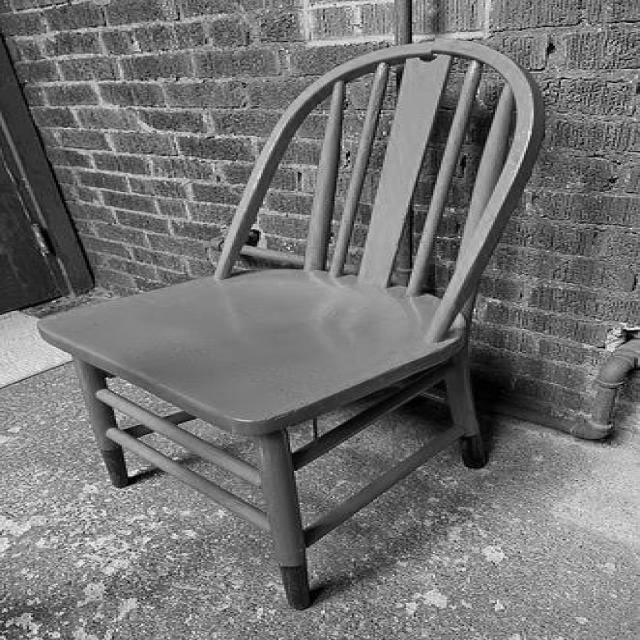chair: (36, 38, 567, 610)
